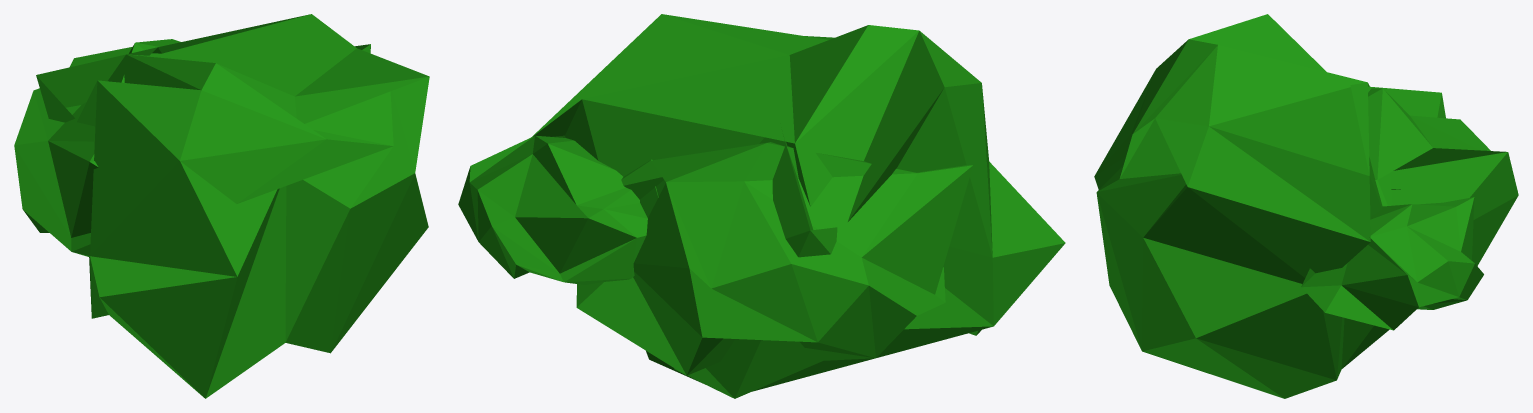
The model's file is Bush3.fbx.
3 views of the same model, side by side, from view 1: azimuth 30°, elevation 25°; view 2: azimuth 150°, elevation 25°; view 3: azimuth 270°, elevation 25° (orthographic). The views are drawn at different scales.
Visible parts, largest first — view 1: Bush_3; view 2: Bush_3; view 3: Bush_3.
Boxes of the visible parts, x1,y1,x2,y2 form: Bush_3: [14, 14, 429, 398]; Bush_3: [458, 14, 1065, 398]; Bush_3: [1094, 14, 1518, 398].
Size of the model in its own units: 94.22 by 72.07 by 88.78.
